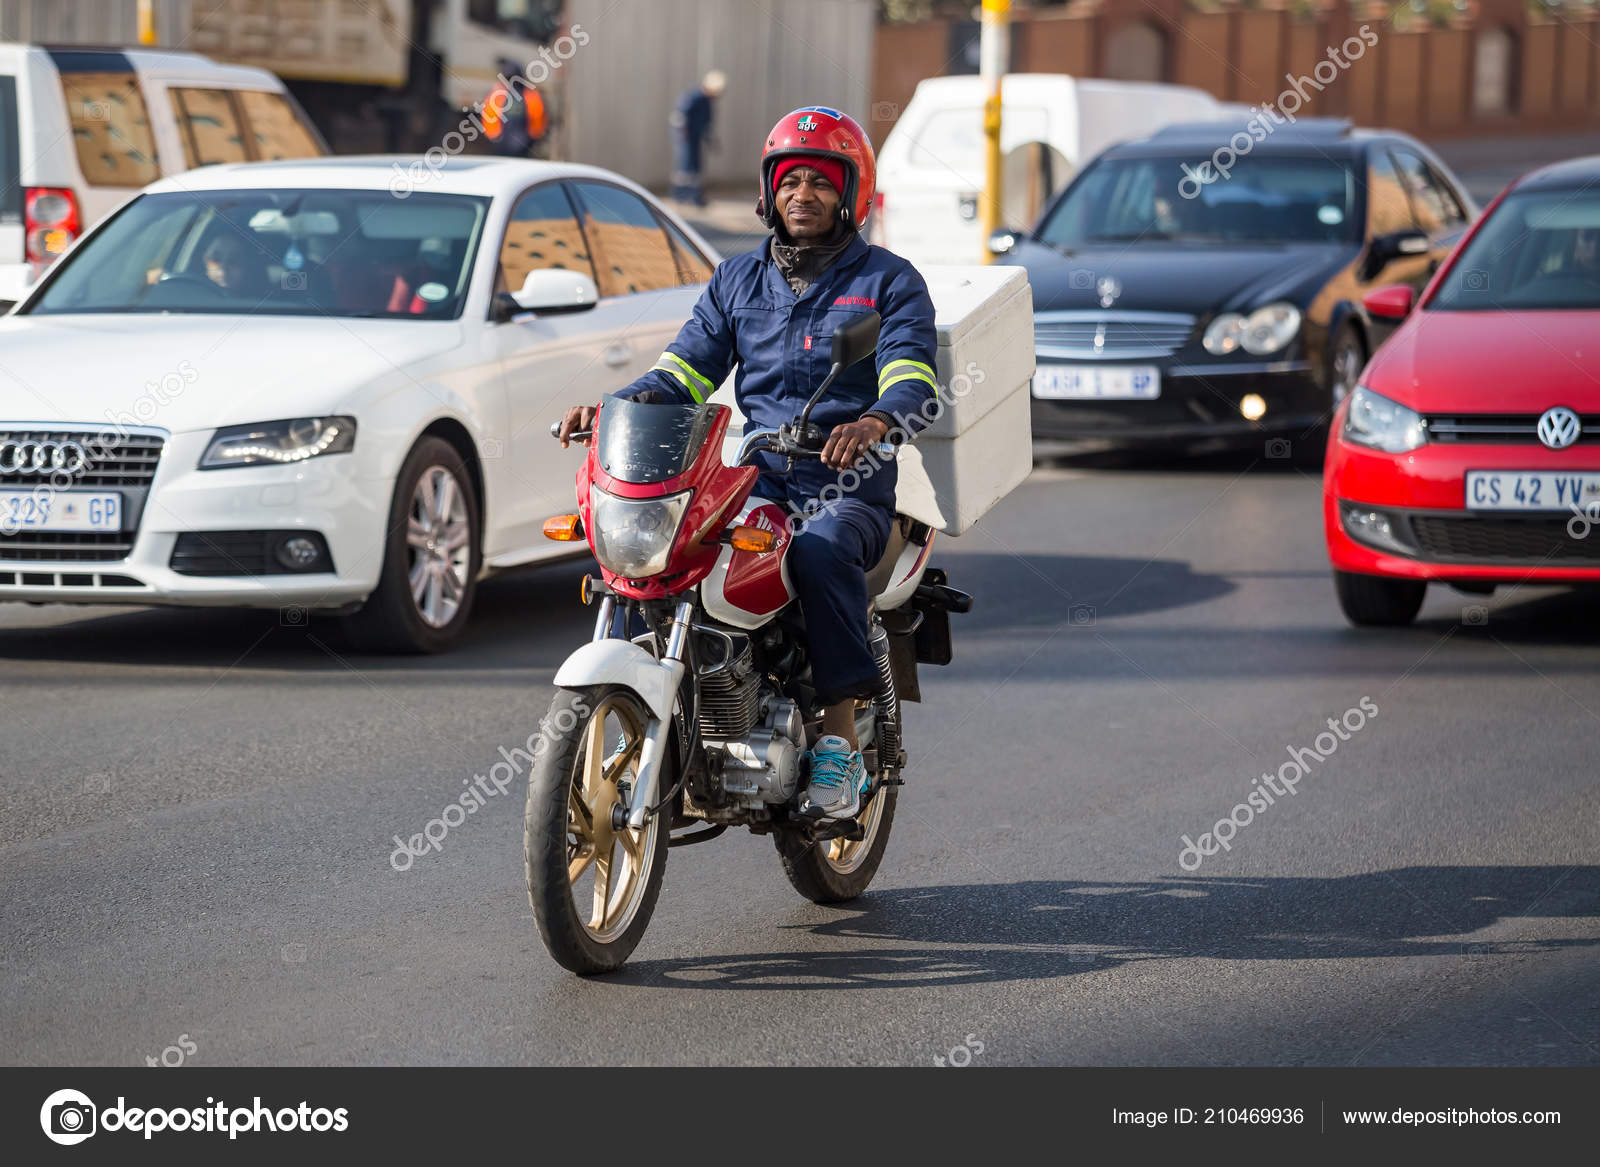helmet: (749, 97, 868, 245)
